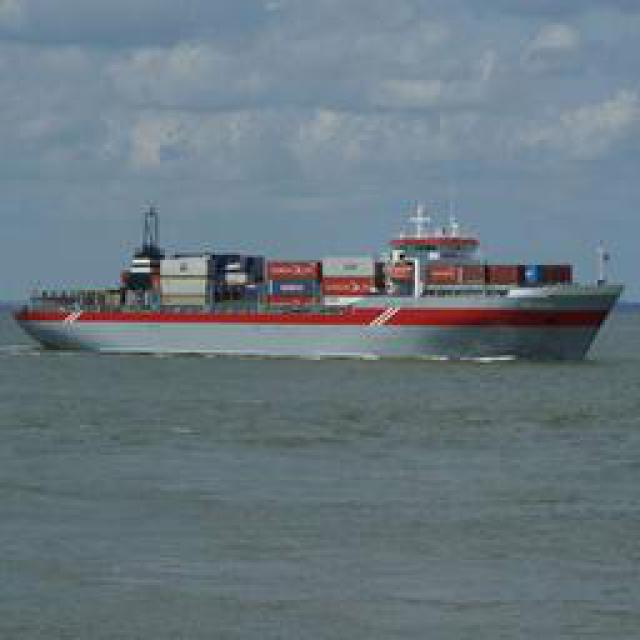Ship: (13, 205, 628, 368)
